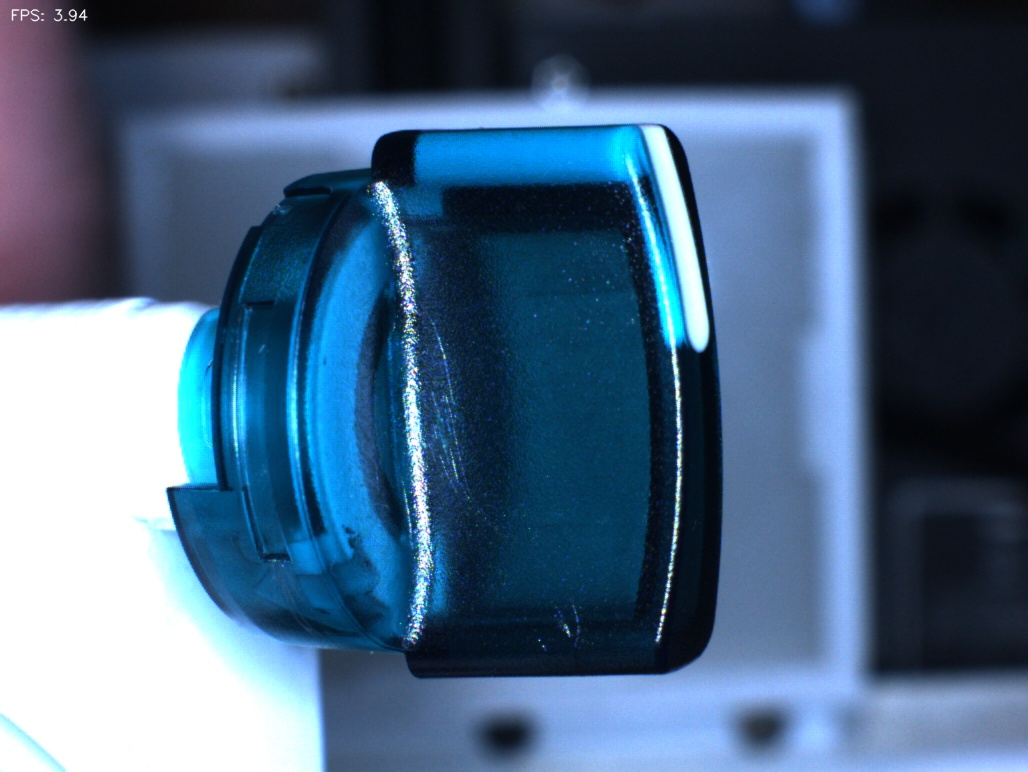Givrage: (496, 558, 610, 664)
